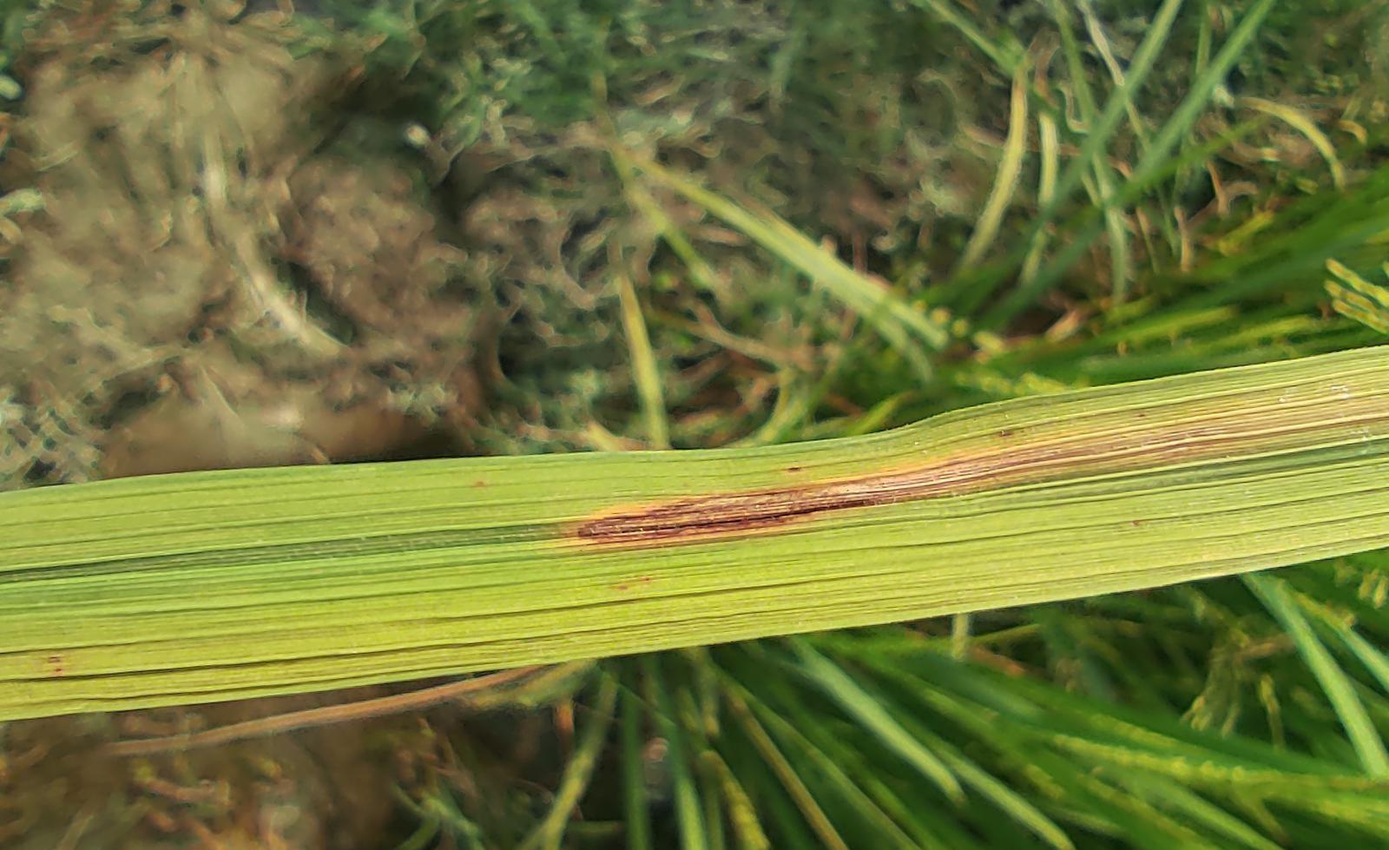LEAF: (0, 347, 1388, 720)
LEAF BLAST: (575, 472, 941, 544)
